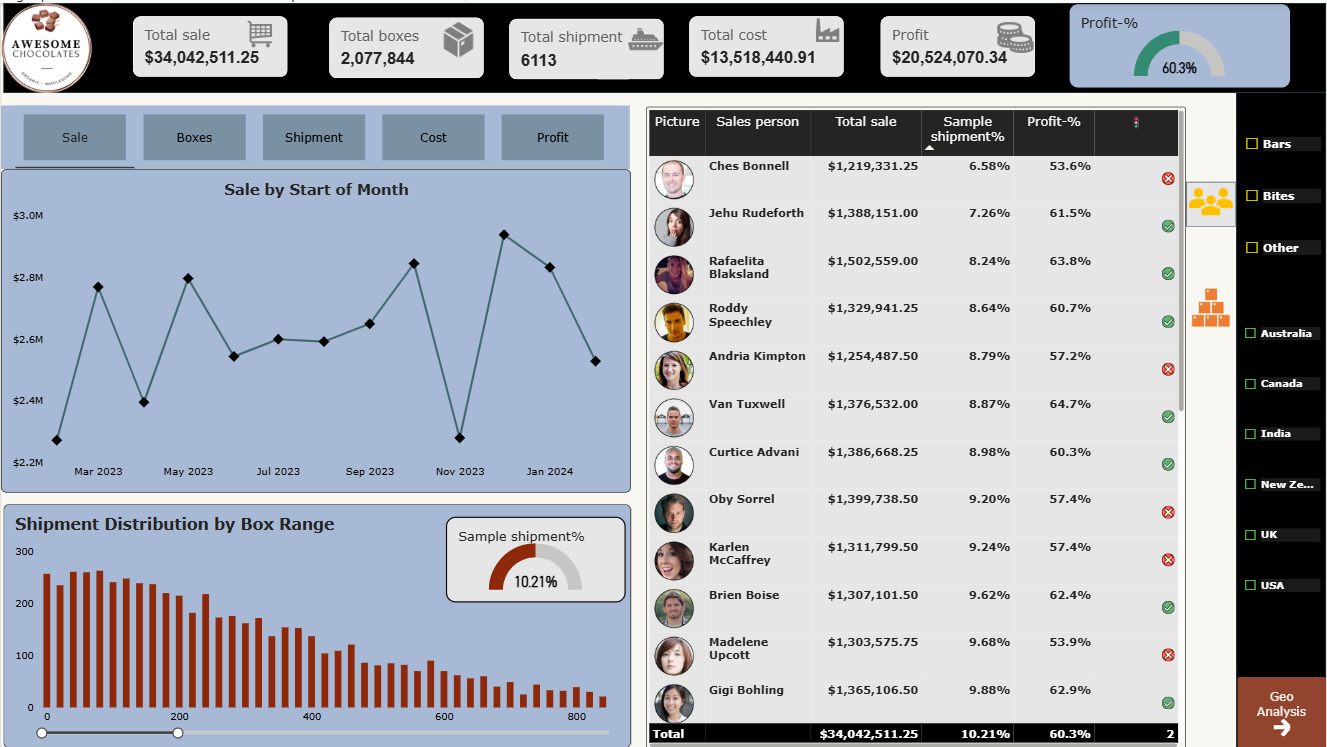

This screenshot's page, from the dashboard's own definition file:
{"tool":"powerbi","page":{"name":"Main Dashboard","canvas":[1920,1080],"ordinal":0},"visuals":[{"type":"shape","box":[1787.9,0,132,1080],"z":0},{"type":"clusteredColumnChart","title":"Shipment Distribution by Box Range","fields":{"Category":["shipments.Boxes (bins)"],"Y":["A-Measure.Total shipment"]},"box":[3.6,725.7,908,354],"z":0,"group":"g6"},{"type":"shape","box":[3.6,0,1916.4,130.3],"z":1000},{"type":"gauge","fields":{"Y":["A-Measure.Sample shipment%"]},"box":[643.6,743.7,260,124],"z":1000,"group":"g6"},{"type":"image","box":[0,0,132.1,130.3],"z":2000},{"type":"group","id":"g1","title":"Group 1","box":[190,18,226,90],"z":3000},{"type":"group","id":"g2","title":"Group 2","box":[474,20,226,90],"z":4000},{"type":"group","id":"g3","title":"Group 3","box":[734,22,226,90],"z":5000},{"type":"group","id":"g4","title":"Group 4","box":[996,8,226,100],"z":6000},{"type":"group","id":"g5","title":"Group 5","box":[1272,18,226,90],"z":7000},{"type":"gauge","fields":{"Y":["A-Measure.Profit-%"]},"box":[1546,0,322,124],"z":8000},{"type":"cardVisual","fields":{"Data":["A-Measure.Total sale"]},"box":[190,18,226,90],"z":9000,"group":"g1"},{"type":"lineChart","fields":{"Category":["calendar.Start of Month"],"Y":["A-Measure.Total sale"]},"box":[0,240.7,912,468],"z":9000},{"type":"cardVisual","fields":{"Data":["A-Measure.Total boxes"]},"box":[474,20,226,90],"z":9001,"group":"g2"},{"type":"cardVisual","fields":{"Data":["A-Measure.Total shipment"]},"box":[734,22,226,90],"z":9002,"group":"g3"},{"type":"cardVisual","fields":{"Data":["A-Measure.Total cost"]},"box":[996,18,226,90],"z":9003,"group":"g4"},{"type":"cardVisual","fields":{"Data":["A-Measure.Profit"]},"box":[1272,18,226,90],"z":9004,"group":"g5"},{"type":"image","box":[334,22,82,46],"z":9006,"group":"g1"},{"type":"image","box":[624,22,76,62],"z":9008,"group":"g2"},{"type":"image","box":[906,22,54,62],"z":9010,"group":"g3"},{"type":"image","box":[1174,8,48,64],"z":9011,"group":"g4"},{"type":"image","box":[1434,20,64,60],"z":9012,"group":"g5"},{"type":"advancedSlicerVisual","fields":{"Values":["Measure kpi parameter.Measure kpi parameter"]},"box":[0,148.4,910,92],"z":10000},{"type":"group","id":"g6","title":"Group 6","box":[3.6,725.7,908.4,354.7],"z":11000},{"type":"slicer","fields":{"Values":["locations.Geo"]},"box":[1793.4,441.6,116.9,499.7],"z":12000},{"type":"slicer","fields":{"Values":["products.Category"]},"box":[1795.2,166.5,115.8,313.1],"z":15000},{"type":"tableEx","title":"People Table","fields":{"Values":["people.Picture","people.Sales person","A-Measure.Total sale","A-Measure.Sample shipment%","A-Measure.Profit-%","A-Measure.Profit Target Indigator"]},"box":[933.8,150.2,781.3,931],"z":17000},{"type":"image","title":"Product Image","box":[1715.6,405.4,72.4,70.6],"z":18000},{"type":"shape","title":"People highlight","box":[1715.6,258.8,72.4,65.1],"z":19000},{"type":"image","title":"People Image","box":[1715.6,251.5,72.4,72.4],"z":20000},{"type":"actionButton","box":[1789.8,975.4,130.3,105],"z":21000}]}

Visuals, with their boxes in screenshot pixels (x1, y1, x2, y2), scaled from the page's 1920x1080 canvas onto the 1327x747 screenshot:
shape: <box>1236,0,1326,746</box>
"Shipment Distribution by Box Range" clusteredColumnChart: <box>2,502,630,746</box>
shape: <box>2,0,1326,90</box>
gauge - A-Measure.Sample shipment%: <box>445,514,625,600</box>
image: <box>0,0,91,90</box>
"Group 1" group: <box>131,12,288,75</box>
"Group 2" group: <box>328,14,484,76</box>
"Group 3" group: <box>507,15,664,77</box>
"Group 4" group: <box>688,6,845,75</box>
"Group 5" group: <box>879,12,1035,75</box>
gauge - A-Measure.Profit-%: <box>1069,0,1291,86</box>
cardVisual - A-Measure.Total sale: <box>131,12,288,75</box>
lineChart - calendar.Start of Month x A-Measure.Total sale: <box>0,166,630,490</box>
cardVisual - A-Measure.Total boxes: <box>328,14,484,76</box>
cardVisual - A-Measure.Total shipment: <box>507,15,664,77</box>
cardVisual - A-Measure.Total cost: <box>688,12,845,75</box>
cardVisual - A-Measure.Profit: <box>879,12,1035,75</box>
image: <box>231,15,288,47</box>
image: <box>431,15,484,58</box>
image: <box>626,15,664,58</box>
image: <box>811,6,845,50</box>
image: <box>991,14,1035,55</box>
advancedSlicerVisual - Measure kpi parameter.Measure kpi parameter: <box>0,103,629,166</box>
"Group 6" group: <box>2,502,630,746</box>
slicer - locations.Geo: <box>1240,305,1320,651</box>
slicer - products.Category: <box>1241,115,1321,332</box>
"People Table" tableEx: <box>645,104,1185,746</box>
"Product Image" image: <box>1186,280,1236,329</box>
"People highlight" shape: <box>1186,179,1236,224</box>
"People Image" image: <box>1186,174,1236,224</box>
actionButton: <box>1237,675,1326,746</box>
